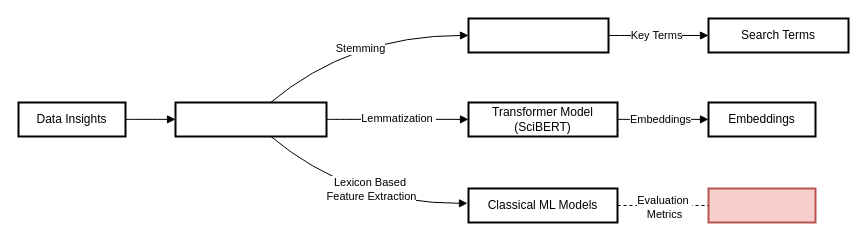
Some shapes in this 866 by 240 pixel diagram are drawn without their labels. Here are the shapes that lost their labels. From the top down, the box of each, then its label:
(467, 17, 609, 53): Visualizing Categorical Frequency
(174, 101, 327, 137): Data Preprocessing
(707, 187, 816, 223): No Go
